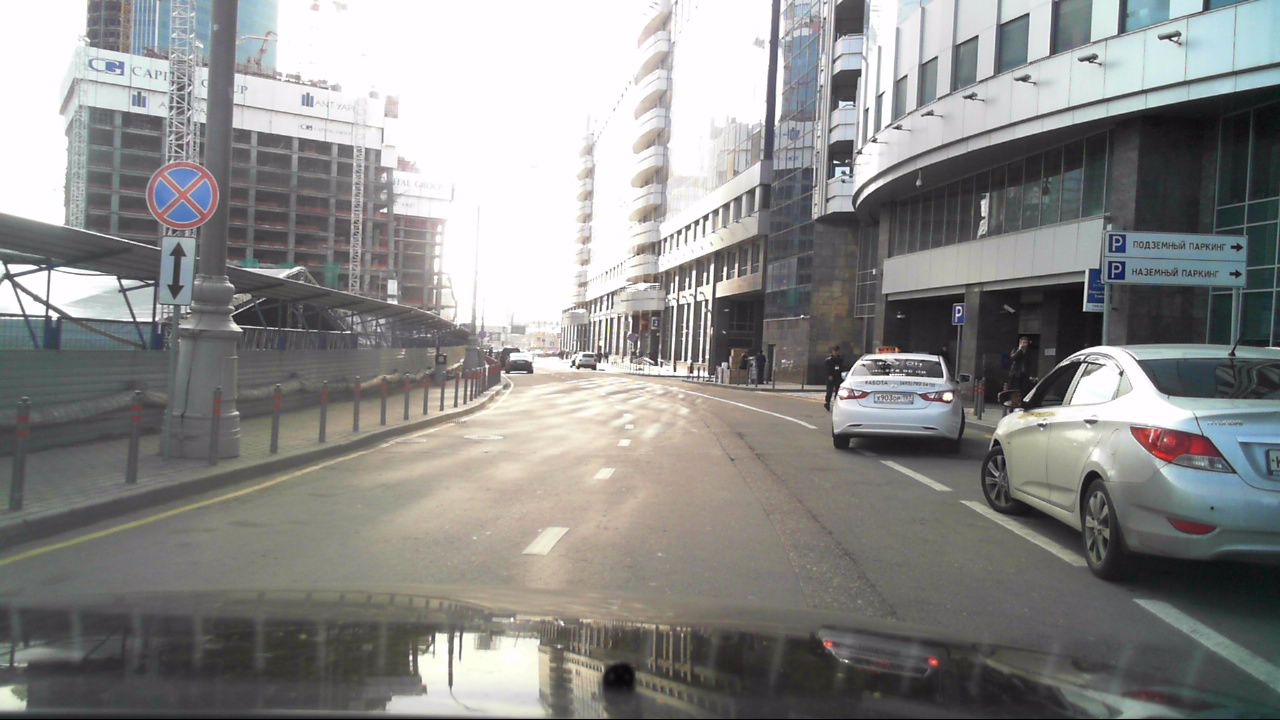No Parking: (142, 158, 223, 231)
